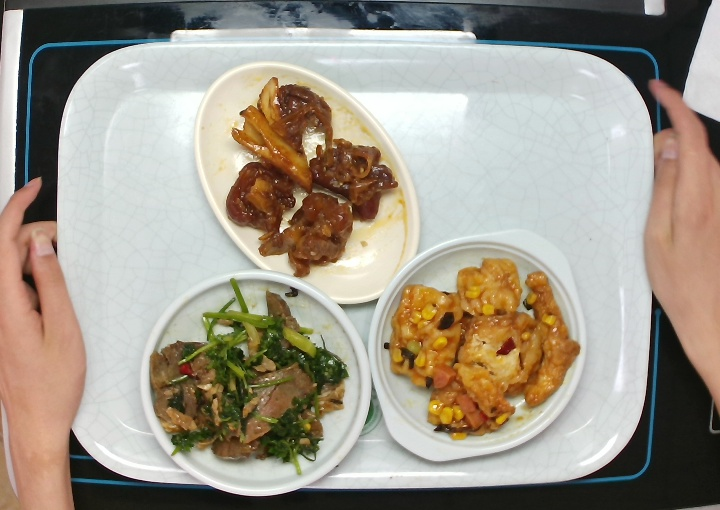JYsf-Shuang_Er_Pan: (364, 224, 595, 466)
JYsf-Tuo_Yuan_Wan: (189, 59, 424, 309)
JYsf-Xiao_Yuan_Pan: (136, 263, 374, 501)
